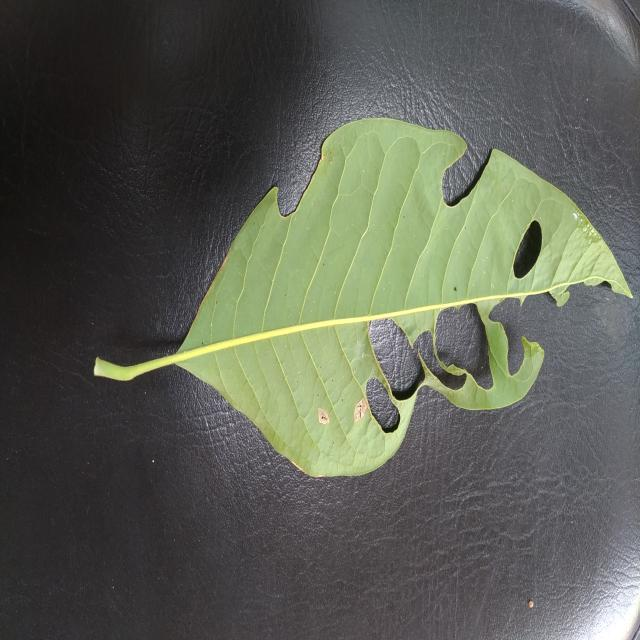coffee leaf rust: (95, 120, 564, 476)
